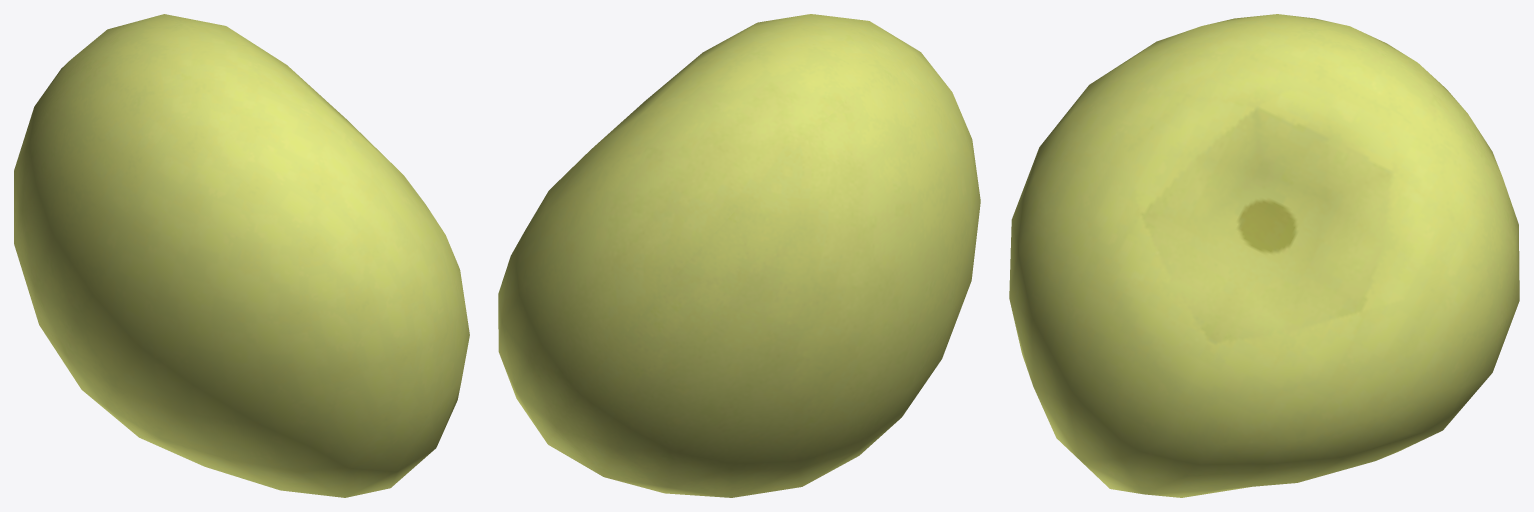
Rendered from pillow_1.glb.
3 views of the same model, side by side, from view 1: azimuth 30°, elevation 25°; view 2: azimuth 150°, elevation 25°; view 3: azimuth 270°, elevation 25° (orthographic). The views are drawn at different scales.
Visible parts, largest first — view 1: fc_pillow_1.smd; view 2: fc_pillow_1.smd; view 3: fc_pillow_1.smd.
Boxes of the visible parts, x1,y1,x2,y2 form: fc_pillow_1.smd: (14,14,469,497); fc_pillow_1.smd: (498,14,980,497); fc_pillow_1.smd: (1009,14,1519,497).
Size of the model in its own units: 0.3109 by 0.3393 by 0.3803.
1 material, 1 textured.
